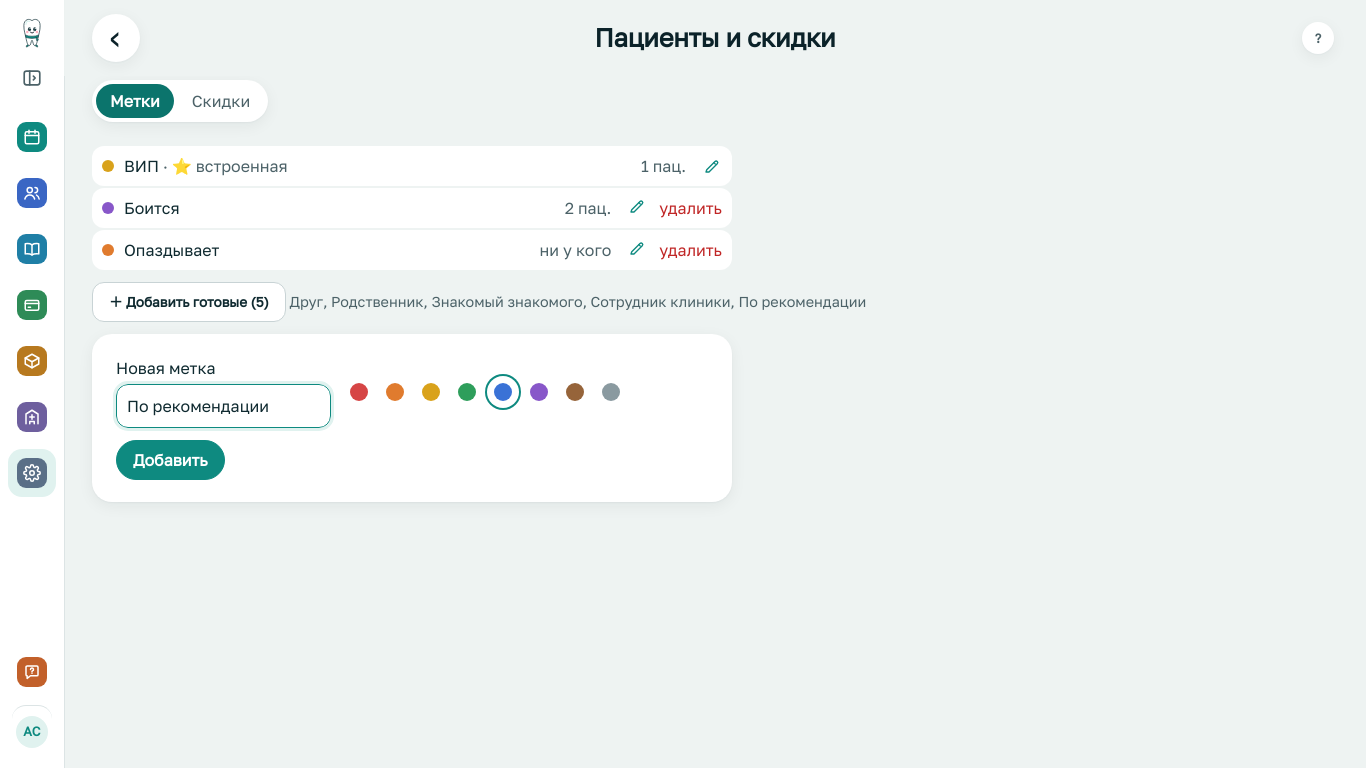
Test: «Настройки → Пациенты и скидки → Метки» › руководитель добавляет, переименовывает и удаляет метку; «ВИП» удалить нельзя
Earlier steps of the test are not shown.
Click the radio button named "Зелёный" at (467, 392), box [458,383,476,401]
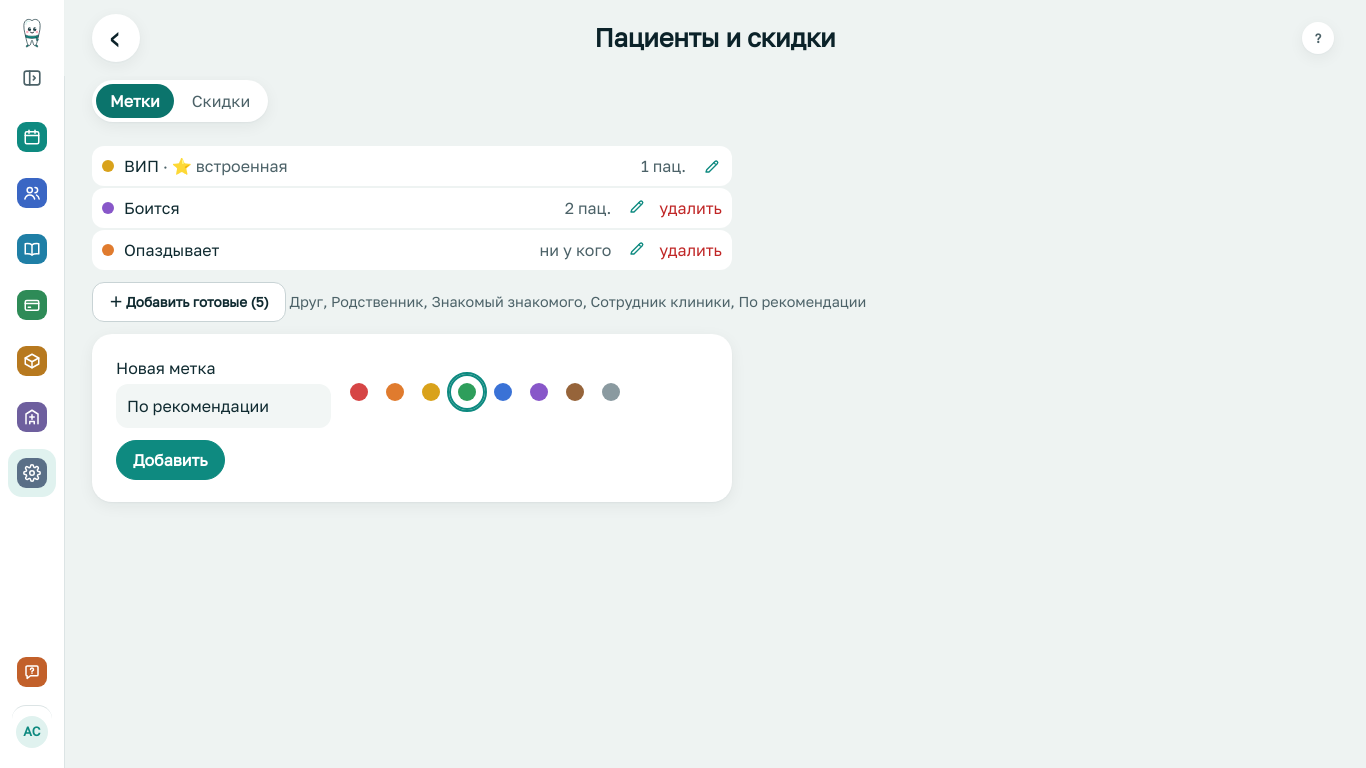
Click the button "Добавить" at (170, 460), box [116,440,225,480]
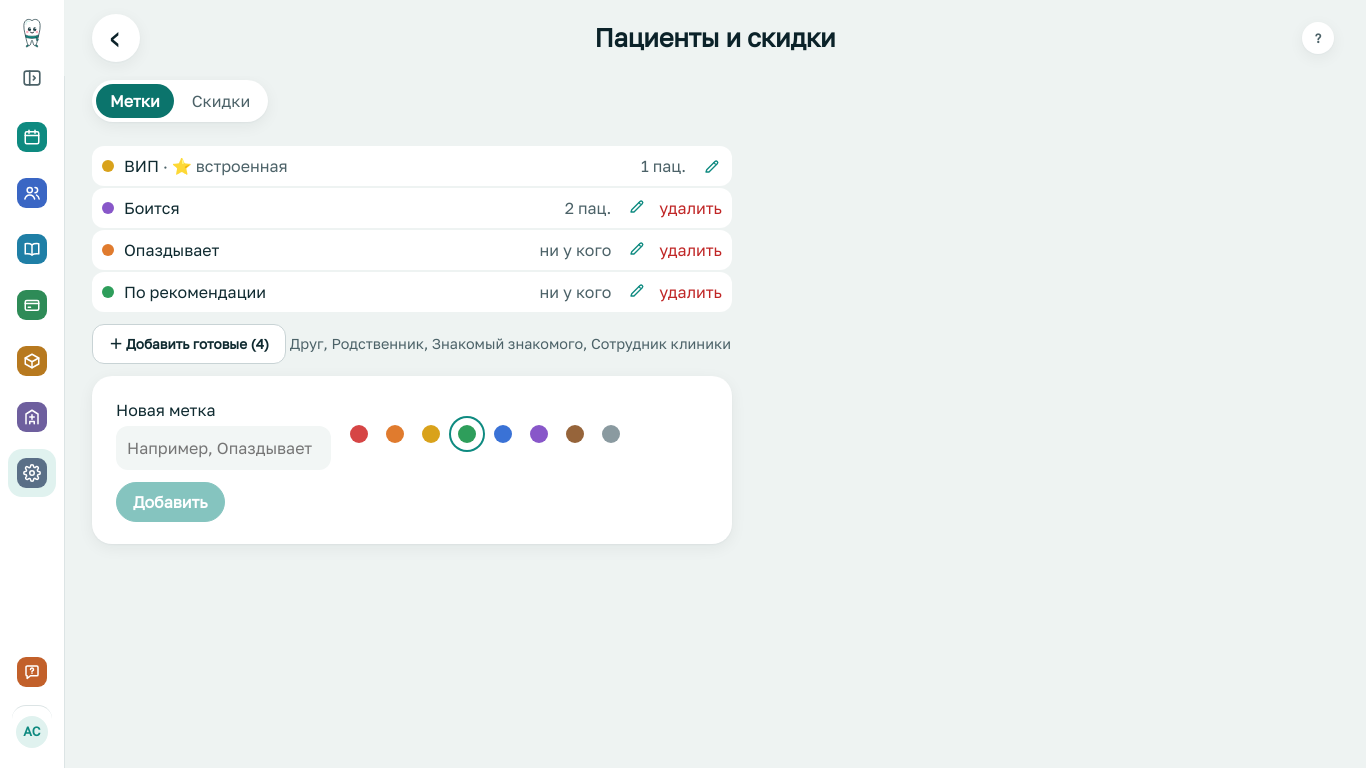
Expected: the text "По рекомендации" is shown, [124,282,266,302]
Click the button named "Изменить метку Опаздывает" at (637, 248), box [621,232,653,264]
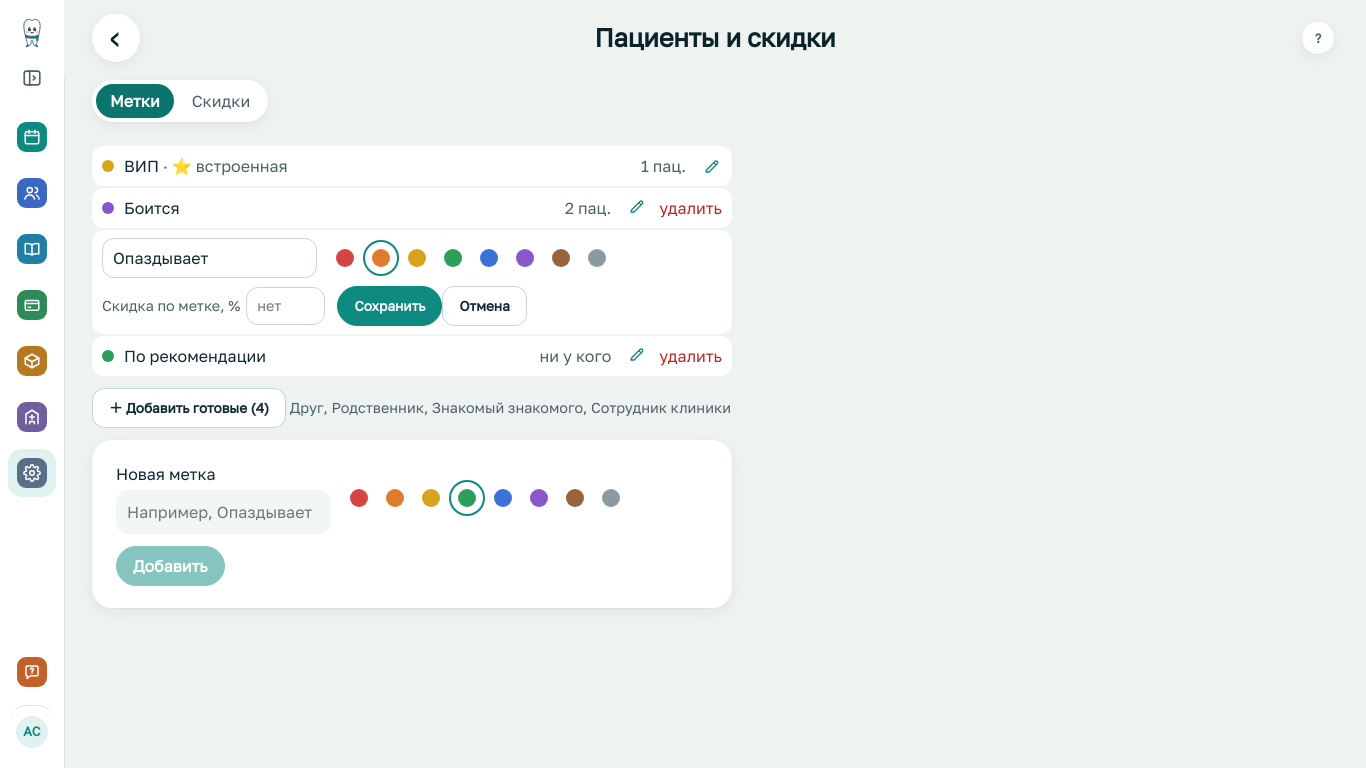
Replace the text in the field named "Название" with "Опаздывает часто" at (210, 258), box [102,238,317,278]
Click the button "Сохранить" at (390, 306), box [337,286,442,326]
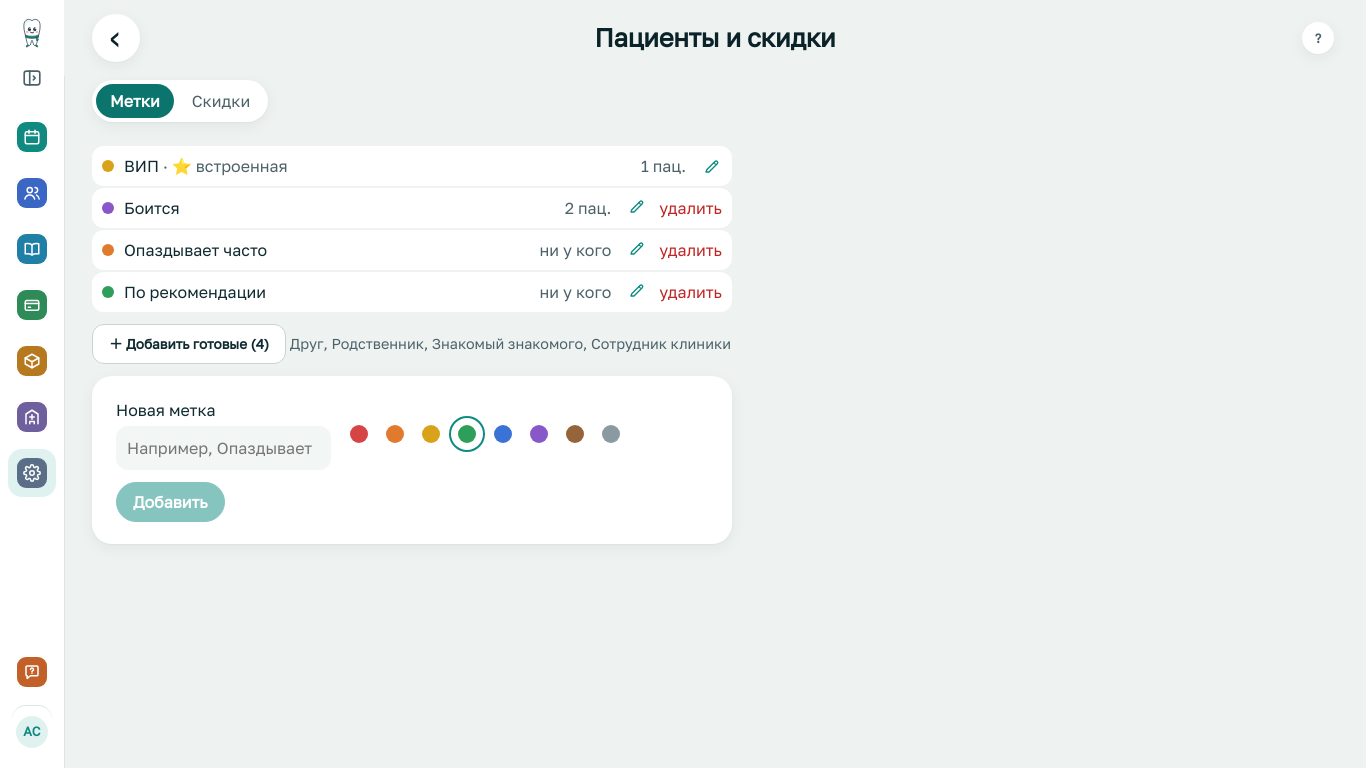
Now the text "Опаздывает часто" is shown, box [124,240,267,260]
Click the button with aria-label "Удалить метку Боится" at (691, 208), box [659,196,722,220]
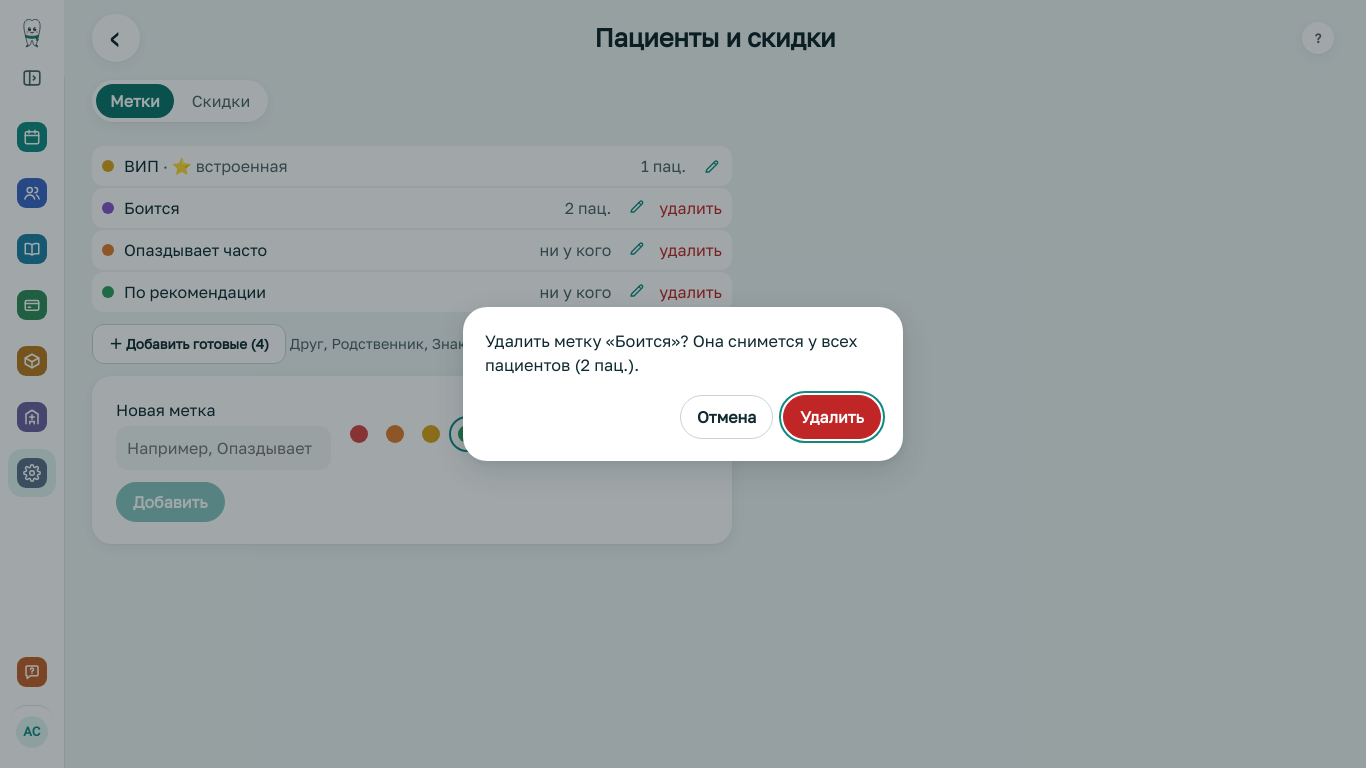
Now the text "Удалить метку «Боится»? Она снимется у всех пациентов (2 пац.)." is shown, box [485,328,881,377]
Click the button "Удалить" at (832, 418), box [783,396,881,440]
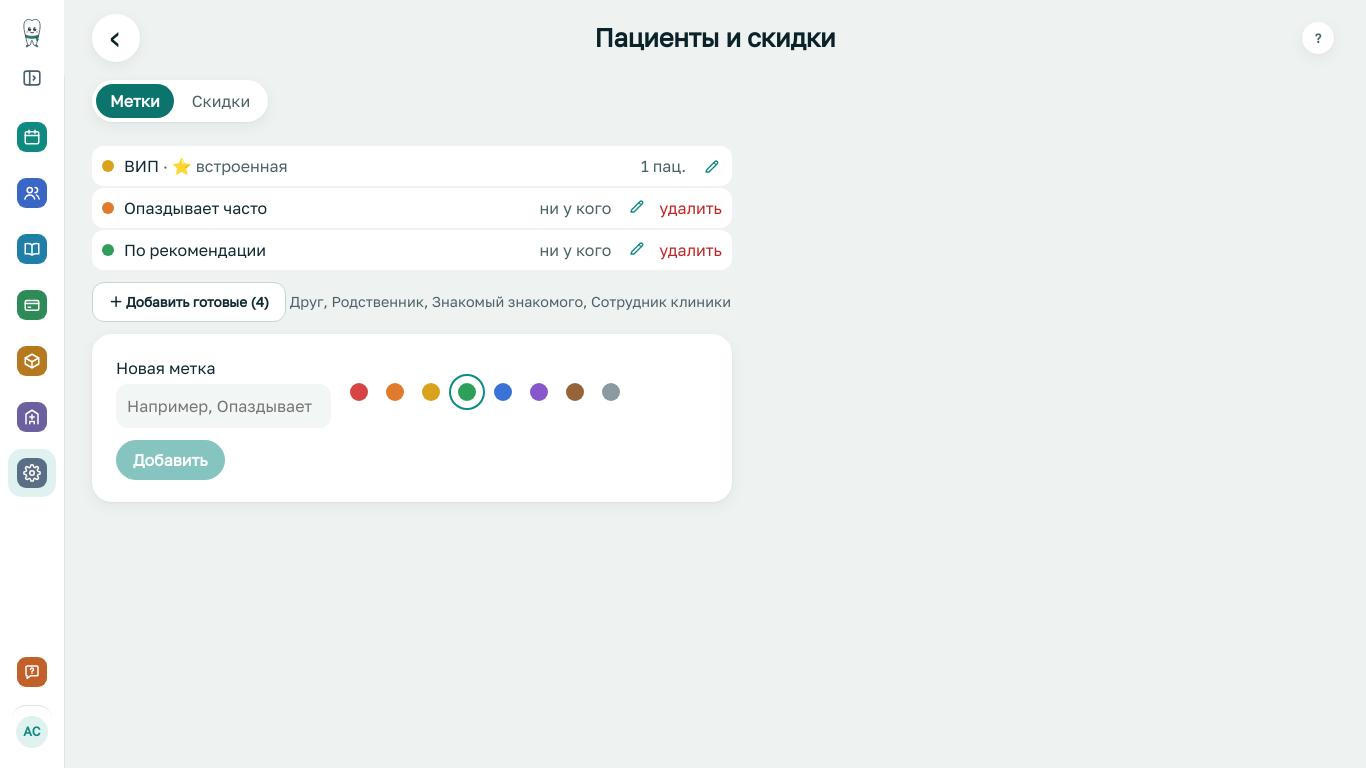
Now the text "Боится" is gone
